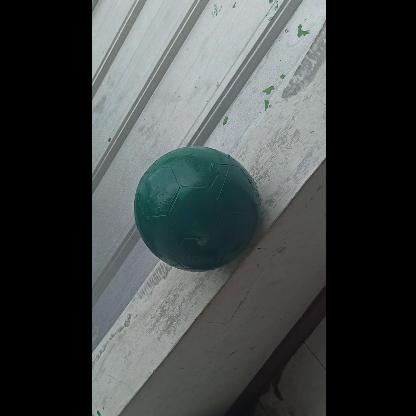green_ball: (132, 145, 256, 269)
